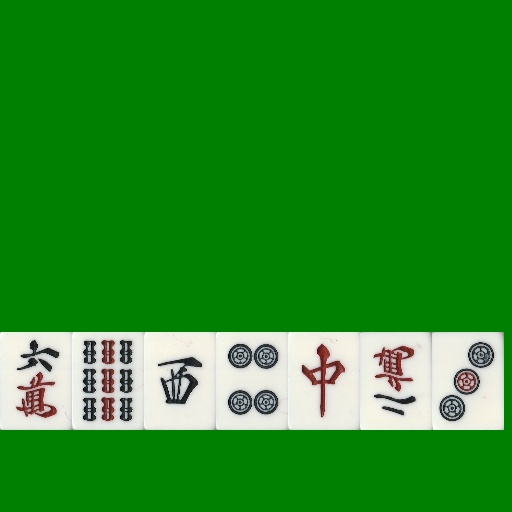2m: (360, 332, 432, 430)
3p: (432, 332, 504, 430)
4p: (216, 332, 288, 430)
6m: (0, 332, 72, 430)
9s: (72, 332, 144, 430)
tyun: (288, 332, 360, 430)
west: (144, 332, 216, 430)
